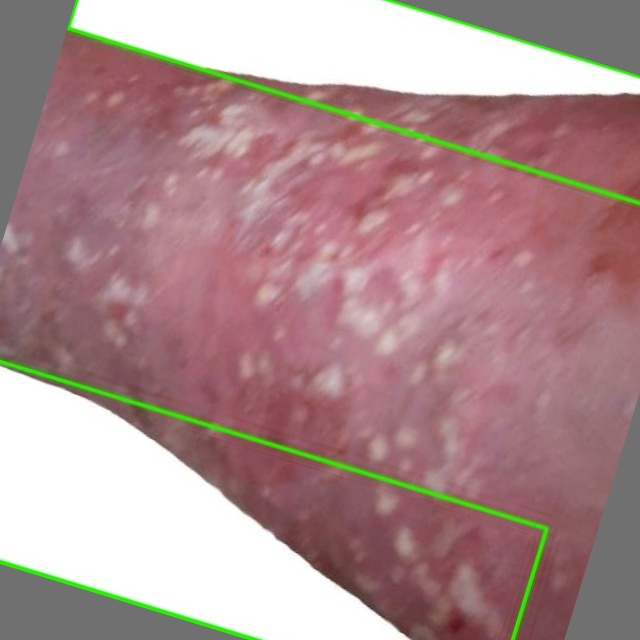Eczema: (0, 362, 547, 639), (67, 0, 639, 202)
